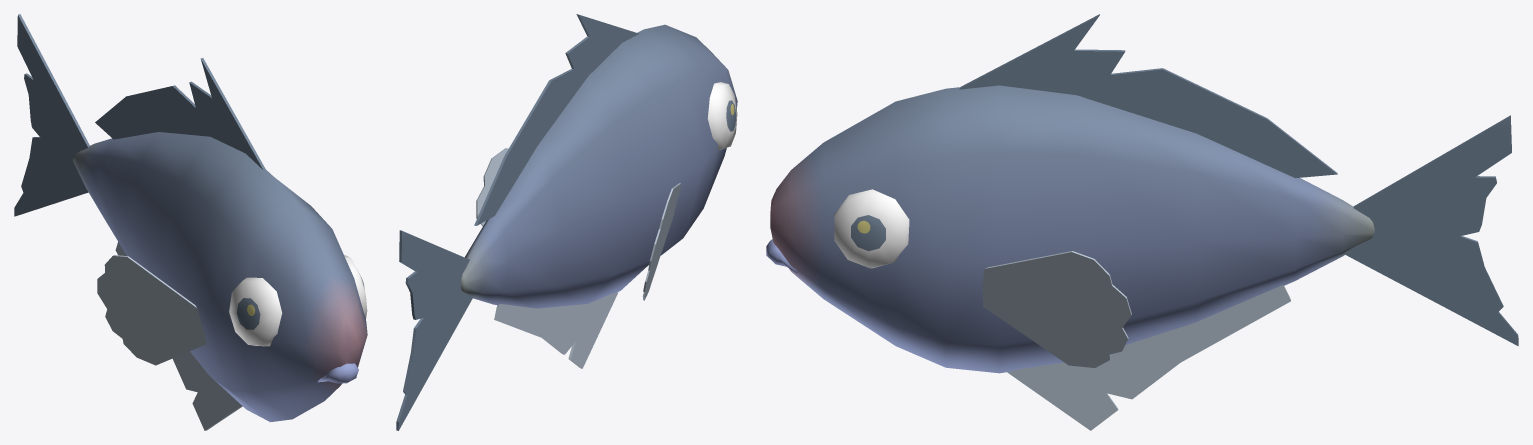
3 views of the same model, side by side, from view 1: azimuth 30°, elevation 25°; view 2: azimuth 150°, elevation 25°; view 3: azimuth 270°, elevation 25° (orthographic). The views are drawn at different scales.
Visible parts, largest first — view 1: Fish_ButterFish; view 2: Fish_ButterFish; view 3: Fish_ButterFish.
Part boxes in pixels (left/top/right/bottom): Fish_ButterFish: left=14, top=14, right=367, bottom=430; Fish_ButterFish: left=396, top=14, right=737, bottom=430; Fish_ButterFish: left=766, top=14, right=1518, bottom=430.
Bounding box in the file's own units: 9.92 × 18.87 × 30.96.
